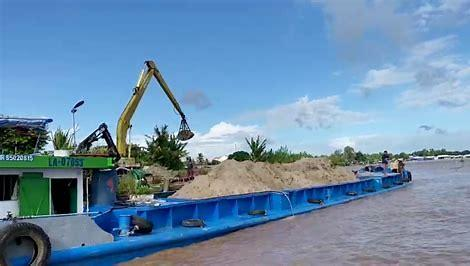Ship: (2, 142, 423, 265)
